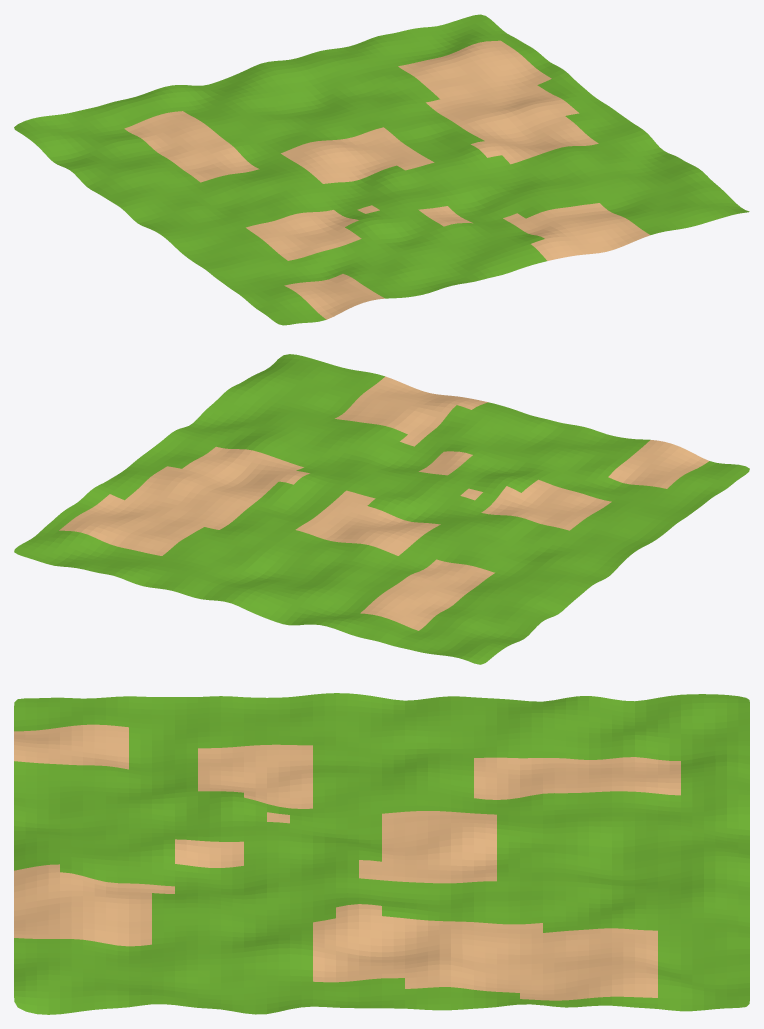
The picture shows the model from 3 angles, top to bottom: view 1: azimuth 30°, elevation 25°; view 2: azimuth 150°, elevation 25°; view 3: azimuth 270°, elevation 25°; orthographic projection. The views are drawn at different scales.
Visible parts, largest first — view 1: Plane; view 2: Plane; view 3: Plane.
Boxes of the visible parts, x1,y1,x2,y2 form: Plane: (14,14,749,325); Plane: (14,354,749,664); Plane: (14,693,749,1014).
Size of the model in its own units: 2 by 0.0549 by 2.
